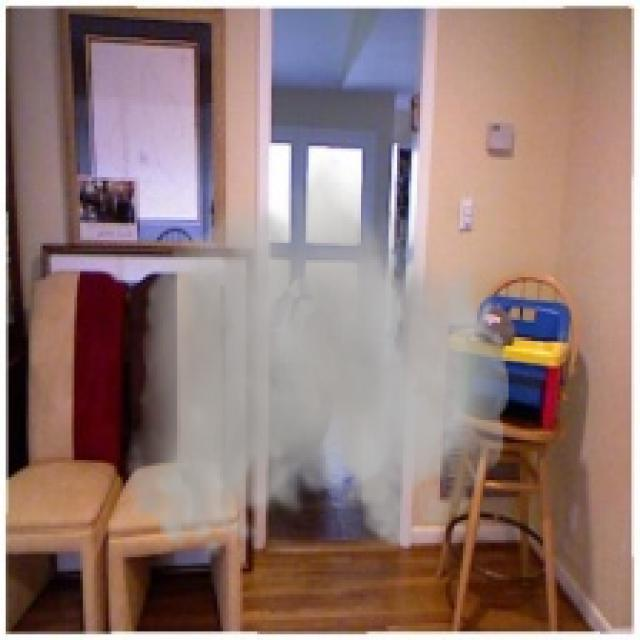Smoke: (126, 151, 508, 560)
